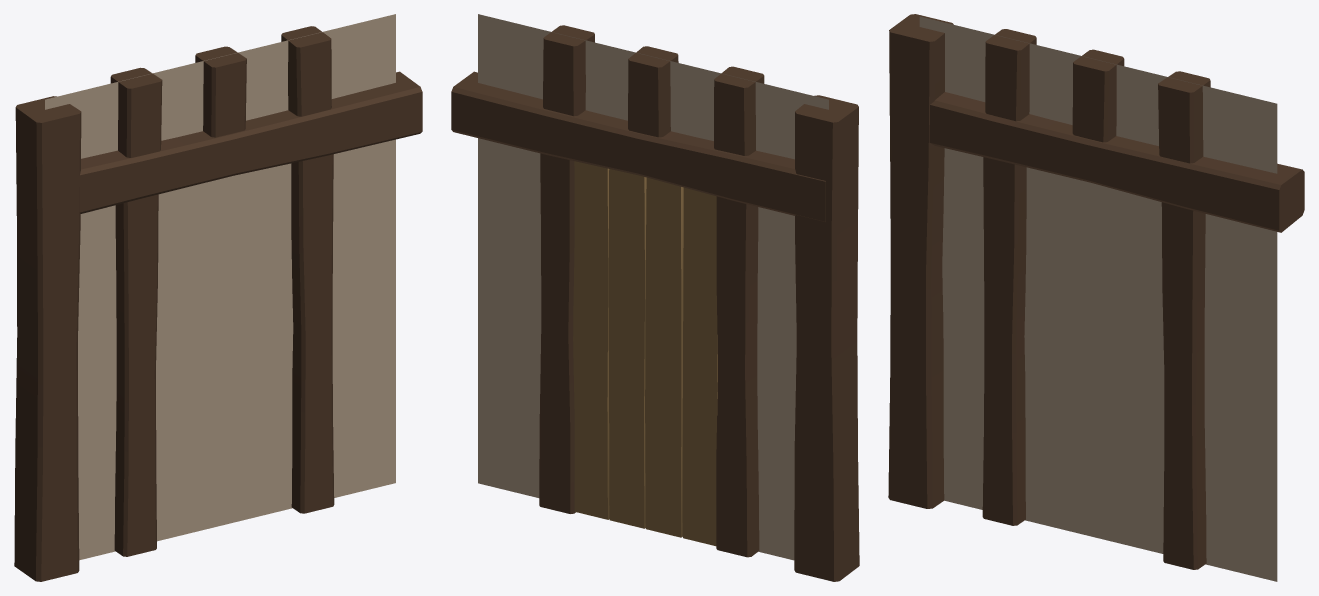
Rendered from DoorWall3.fbx.
3 renders of one model, left to right at view 1: azimuth 30°, elevation 25°; view 2: azimuth 150°, elevation 25°; view 3: azimuth 330°, elevation 25°, orthographic.
Visible parts, largest first — view 1: Cube.015; view 2: Cube.015; view 3: Cube.015.
Boxes of the visible parts, bbox=[...] form: Cube.015: bbox=[14, 14, 422, 581]; Cube.015: bbox=[451, 14, 859, 581]; Cube.015: bbox=[888, 14, 1304, 581].
Size of the model in its own units: 2.2 by 2.56 by 0.2466.
